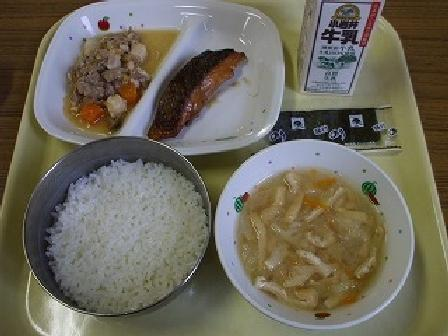Fish: (156, 39, 254, 147)
Milk: (287, 1, 396, 97)
Rice: (21, 139, 225, 319)
Soups: (219, 154, 410, 318)
cooked food meat with vegetables: (53, 23, 153, 121)
